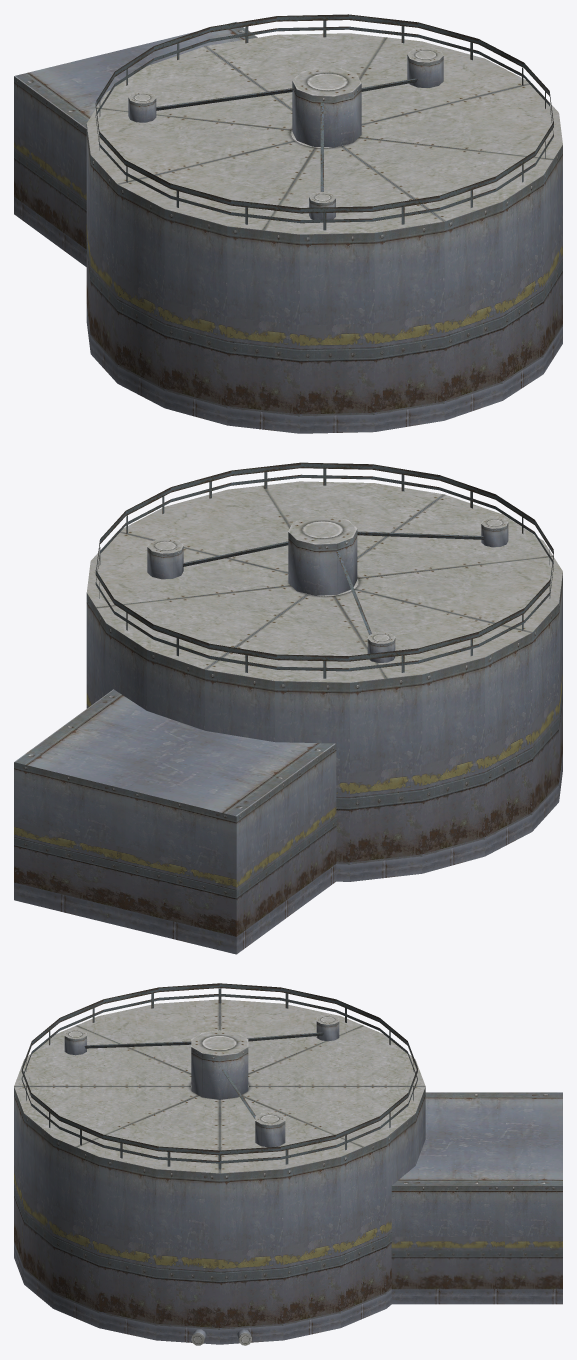
Rendered from Building_Gccyg01.glb.
The picture shows the model from 3 angles, top to bottom: view 1: azimuth 30°, elevation 25°; view 2: azimuth 150°, elevation 25°; view 3: azimuth 270°, elevation 25°; orthographic projection. The views are drawn at different scales.
Parts seen in each view (by area): view 1: xiutz_gccyg_01_0; view 2: xiutz_gccyg_01_0; view 3: xiutz_gccyg_01_0.
Part boxes in pixels (bbox=[...]): xiutz_gccyg_01_0: bbox=[14, 14, 562, 433]; xiutz_gccyg_01_0: bbox=[14, 462, 562, 954]; xiutz_gccyg_01_0: bbox=[14, 983, 562, 1345].
Size of the model in its own units: 71.42 by 40.44 by 93.35.
2 materials, 2 textured.
